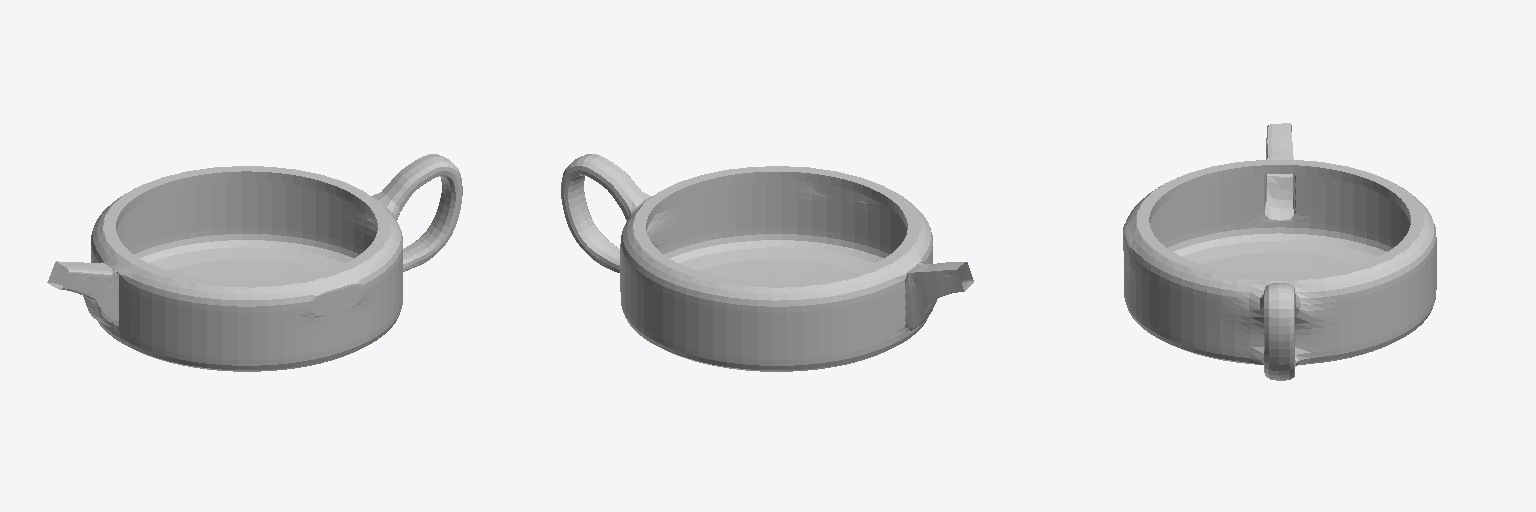
The model's file is hangu.obj.
3 renders of one model, left to right at view 1: azimuth 30°, elevation 25°; view 2: azimuth 150°, elevation 25°; view 3: azimuth 270°, elevation 25°, orthographic.
Visible parts, largest first — view 1: Cylinder; view 2: Cylinder; view 3: Cylinder.
Boxes of the visible parts, box(x1,y1,x2,y2) form: Cylinder: box(47, 154, 462, 371); Cylinder: box(561, 154, 973, 371); Cylinder: box(1123, 123, 1436, 380).
Size of the model in its own units: 2.59 by 0.6787 by 1.73.